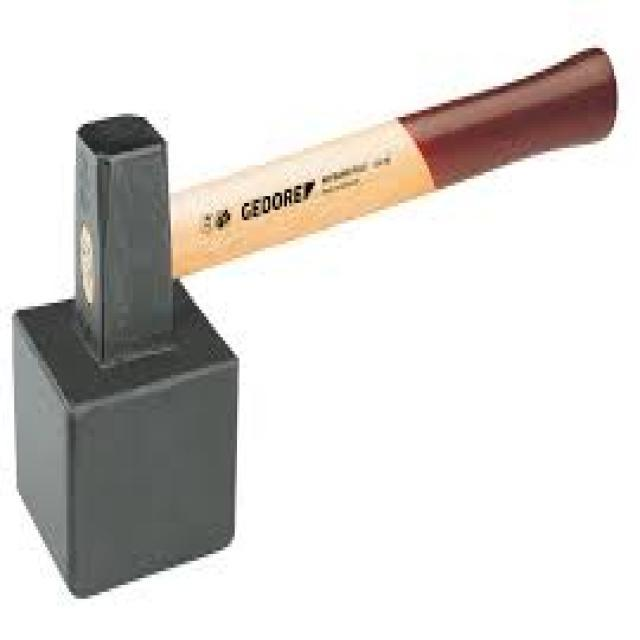Palu: (11, 52, 608, 600)
